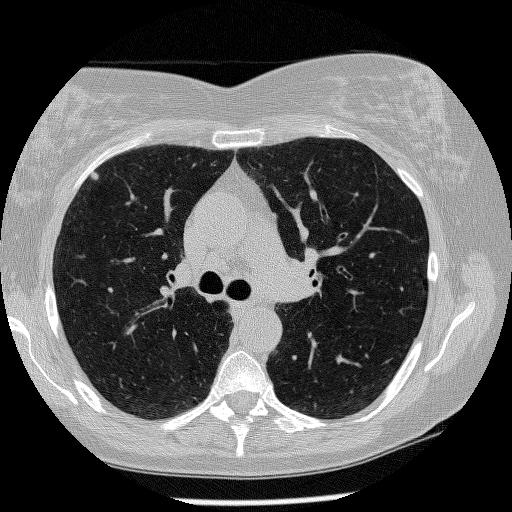nodule: (88, 170, 101, 183)
